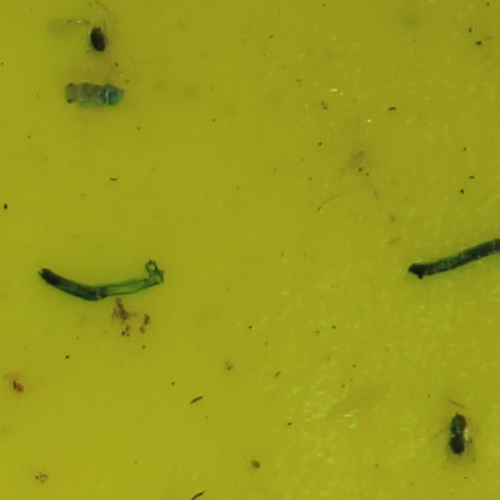psylla: (62, 75, 124, 107)
